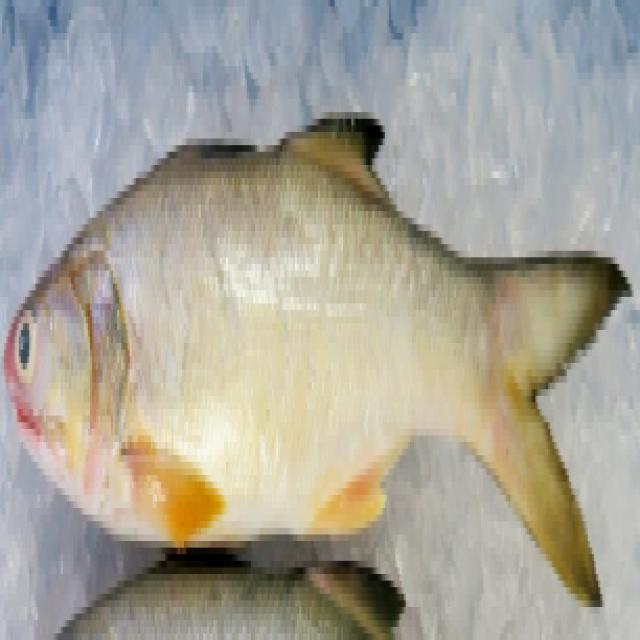Fourfinger-Threadfin: (0, 73, 627, 588)
